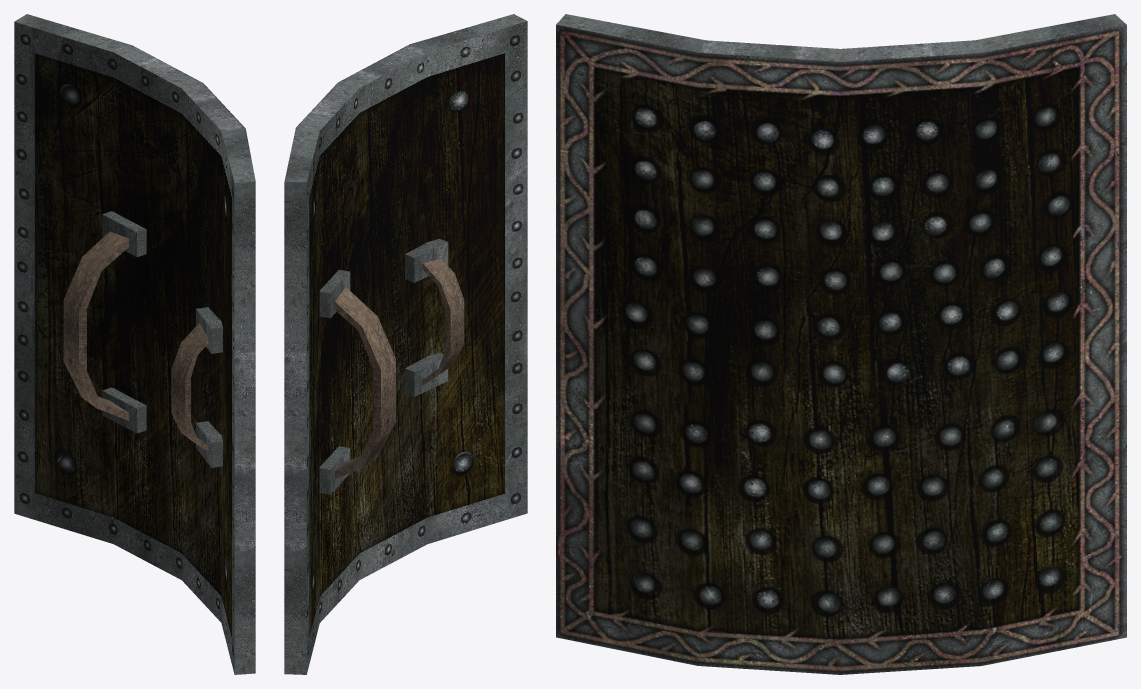
File: shield_05.FBX
The picture shows the model from 3 angles, left to right: view 1: azimuth 30°, elevation 25°; view 2: azimuth 150°, elevation 25°; view 3: azimuth 270°, elevation 25°; orthographic projection. The views are drawn at different scales.
Visible parts, largest first — view 1: square_shield_06; view 2: square_shield_06; view 3: square_shield_06.
Boxes of the visible parts, x1=… form: square_shield_06: x1=14, y1=14, x2=255, y2=674; square_shield_06: x1=284, y1=14, x2=527, y2=674; square_shield_06: x1=556, y1=14, x2=1126, y2=674.
Size of the model in its own units: 14.1 by 72.51 by 61.2.
